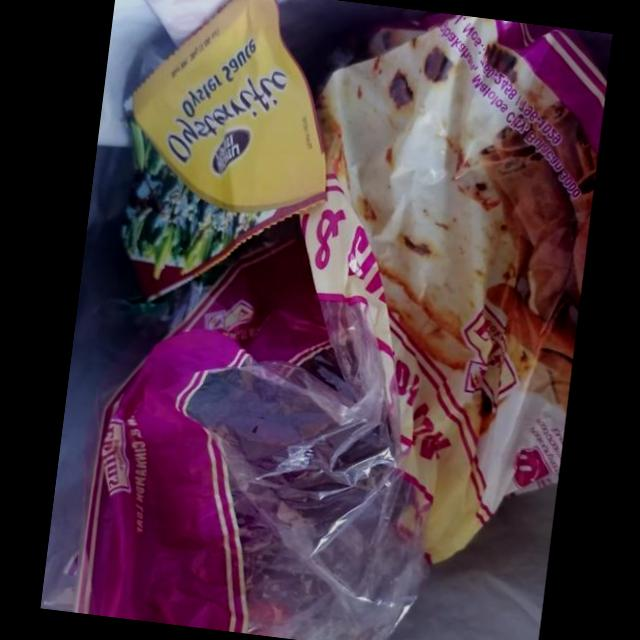bao_bi_thuc_pham: (123, 0, 326, 300)
tui_ni_long: (73, 14, 608, 640)
